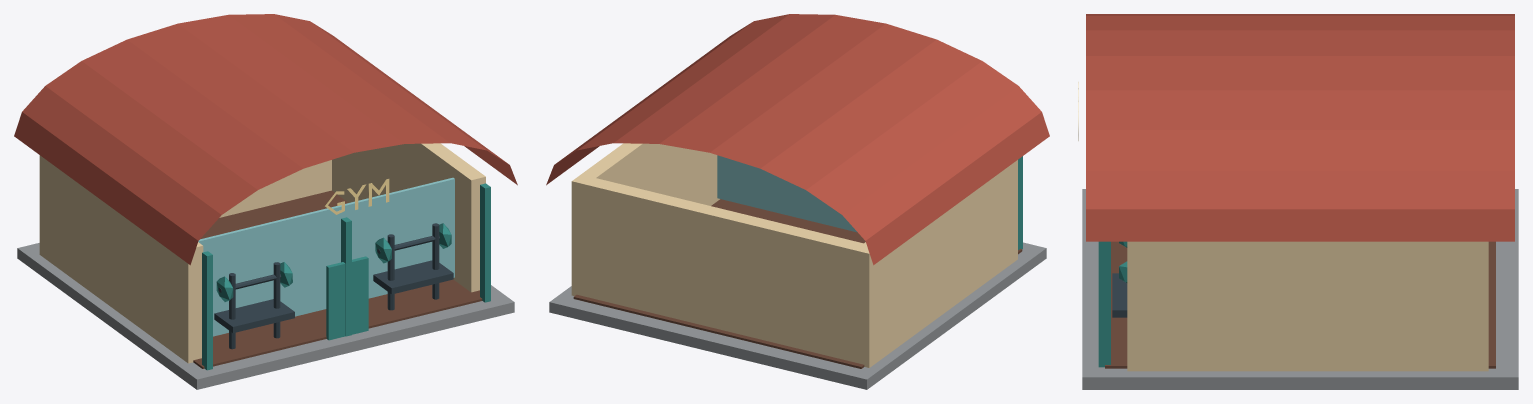
The model's file is gym.glb.
3 renders of one model, left to right at view 1: azimuth 30°, elevation 25°; view 2: azimuth 150°, elevation 25°; view 3: azimuth 270°, elevation 25°, orthographic. The views are drawn at different scales.
Visible parts, largest first — view 1: barrel_roof, window_back, side_wall, foundation, floor, side_wall.001, rear_wall, door, rack, rack.001, front_post.002, front_post (+5 smaller); view 2: barrel_roof, rear_wall, side_wall, foundation, side_wall.001, window_back, floor, front_post; view 3: barrel_roof, side_wall.001, foundation, rear_wall, floor, front_post.002, rack.001.
Part boxes in pixels (x1,y1,x2,y2): barrel_roof: (14,14,517,265); window_back: (198,177,454,336); side_wall: (46,160,203,363); foundation: (17,243,514,389); floor: (193,190,482,368); side_wall.001: (332,143,485,292); rear_wall: (39,155,331,261); door: (326,256,368,340); rack: (214,299,294,333); rack.001: (373,260,453,294); front_post.002: (480,183,490,302); front_post: (202,251,212,370); barrel_roof: (546,14,1049,265); rear_wall: (571,177,878,367); side_wall: (861,160,1017,362); foundation: (549,242,1046,389); side_wall.001: (578,143,719,205); window_back: (717,155,857,232); floor: (573,199,1022,368); front_post: (1018,156,1022,249); barrel_roof: (1086,14,1514,241); side_wall.001: (1127,241,1473,371); foundation: (1082,189,1518,389); rear_wall: (1466,241,1488,371); floor: (1105,241,1495,368); front_post.002: (1098,241,1110,367); rack.001: (1112,273,1127,317).
Size of the model in its own units: 6.6 by 3.8 by 6.33.
